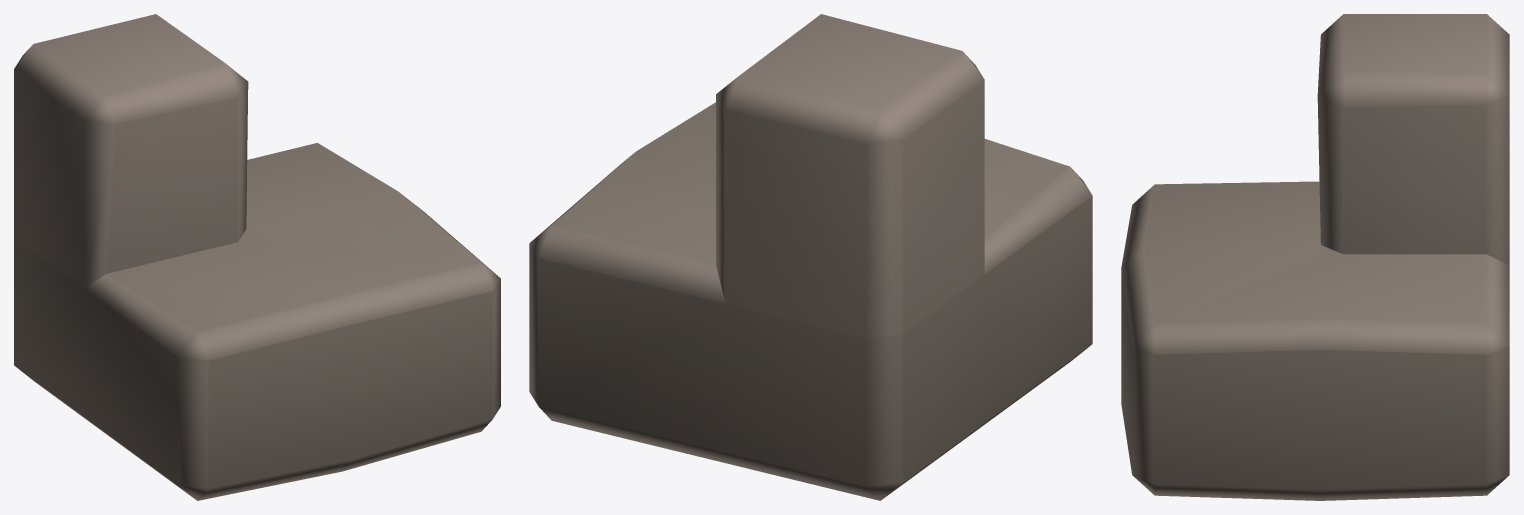
The model's file is elf_stair_corner_conv_shade_4.fbx.
3 views of the same model, side by side, from view 1: azimuth 30°, elevation 25°; view 2: azimuth 150°, elevation 25°; view 3: azimuth 270°, elevation 25° (orthographic). The views are drawn at different scales.
Parts seen in each view (by area): view 1: elf_stair_corner_conv_shade_4; view 2: elf_stair_corner_conv_shade_4; view 3: elf_stair_corner_conv_shade_4.
Part boxes in pixels (x1,y1,x2,y2): elf_stair_corner_conv_shade_4: (14,14,500,500); elf_stair_corner_conv_shade_4: (529,14,1092,500); elf_stair_corner_conv_shade_4: (1121,14,1509,500).
Size of the model in its own units: 50.88 by 50.69 by 51.43.
